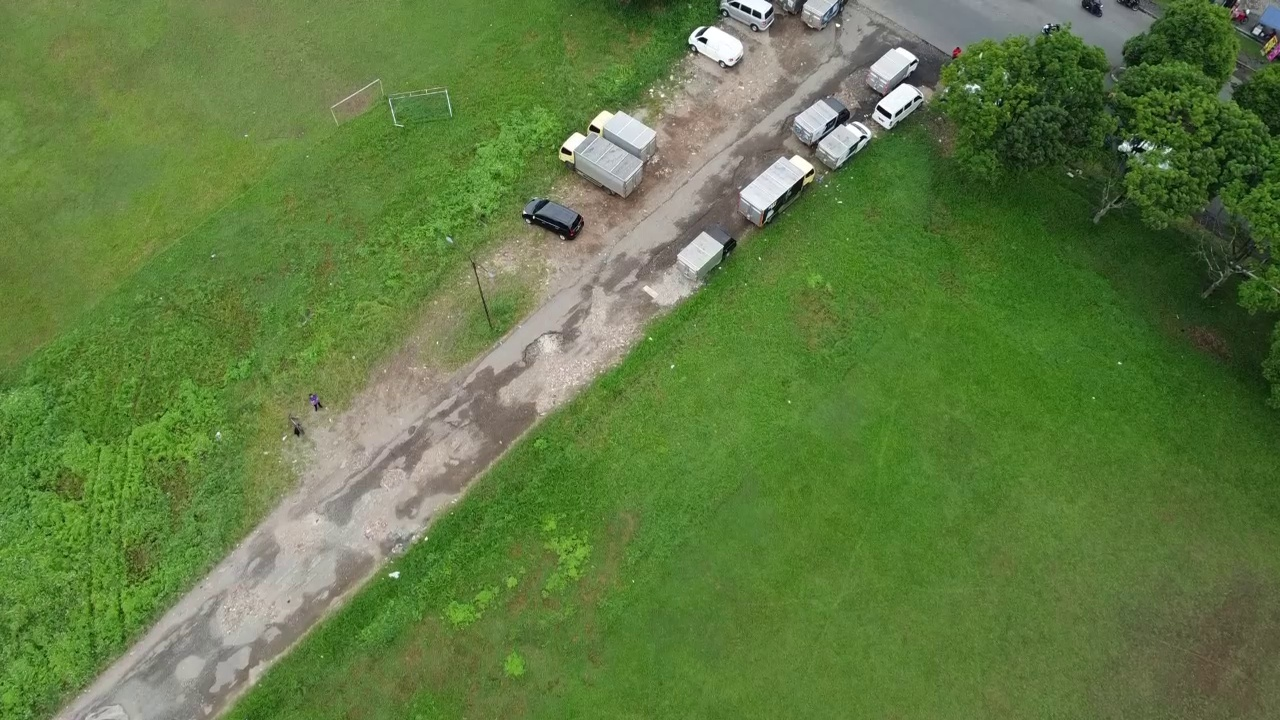mobil: (519, 192, 588, 244), (685, 20, 752, 70), (865, 78, 927, 128), (716, 1, 782, 38)
